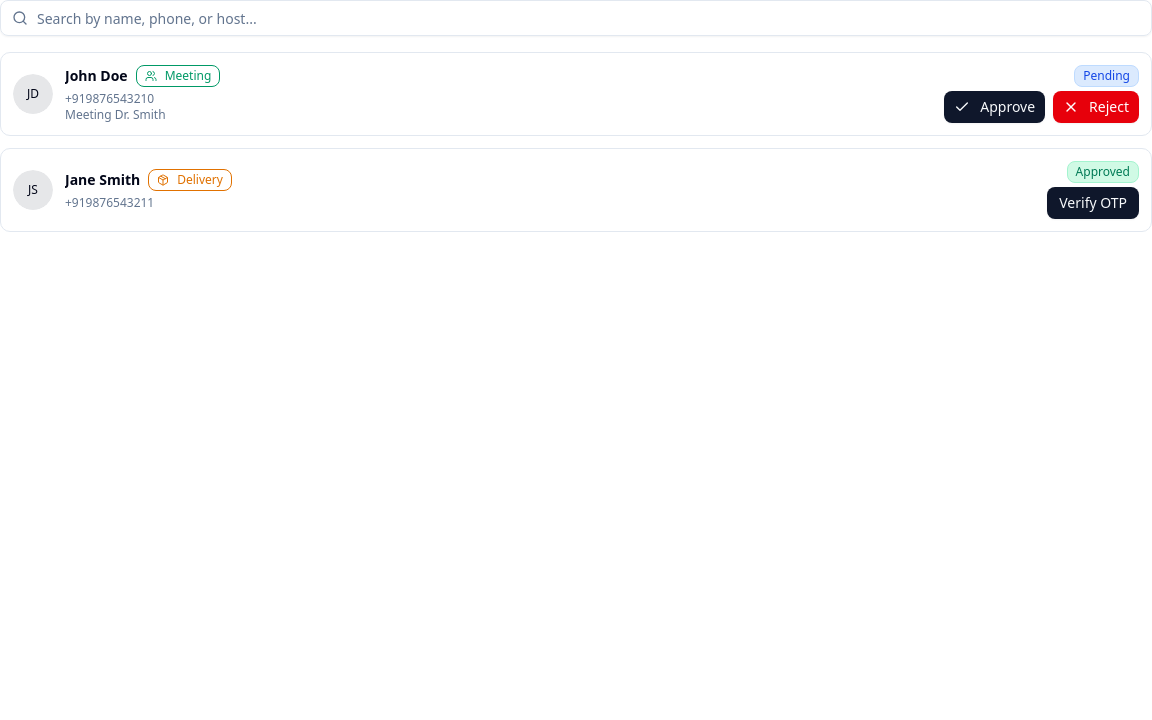
Test case: VisitorList › Action handlers › should open reject dialog when reject button is clicked
Click the button "Reject": (1096, 107) [1053,91,1139,123]
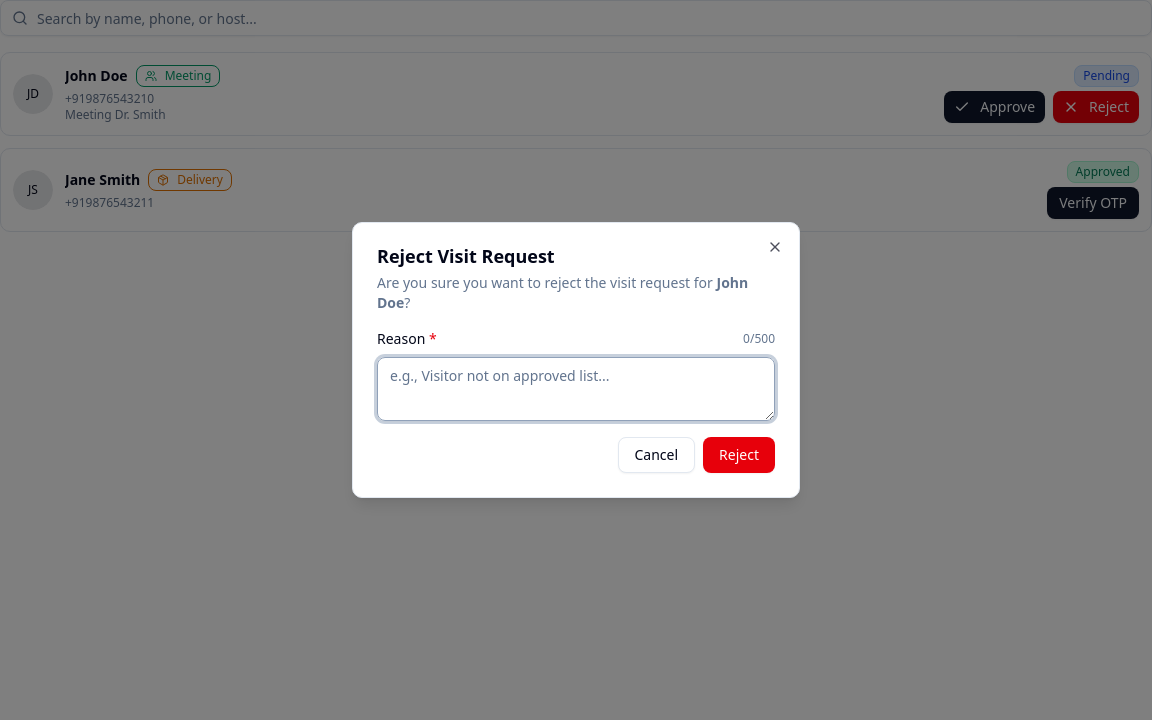
Check: the 1st text "John Doe" is shown, box [65,66,128,86]
Check: the dialog is shown, box [352,222,800,498]
Check: the heading "Reject Visit Request" is shown, box [377,244,555,268]
